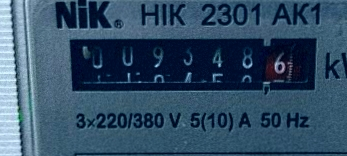0: (89, 44, 105, 71), (120, 41, 134, 67)
3: (181, 42, 195, 67)
4: (207, 40, 226, 70)
6: (271, 47, 288, 76)
8: (240, 42, 255, 71)
9: (151, 44, 165, 71)
screen: (51, 23, 330, 103)
